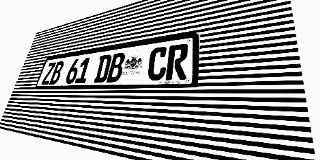1: (74, 57, 92, 84)
6: (64, 58, 81, 84)
B: (106, 52, 126, 82), (49, 61, 65, 84)
C: (146, 46, 169, 81)
D: (93, 54, 112, 83)
R: (165, 43, 189, 80)
Z: (41, 62, 56, 85)
